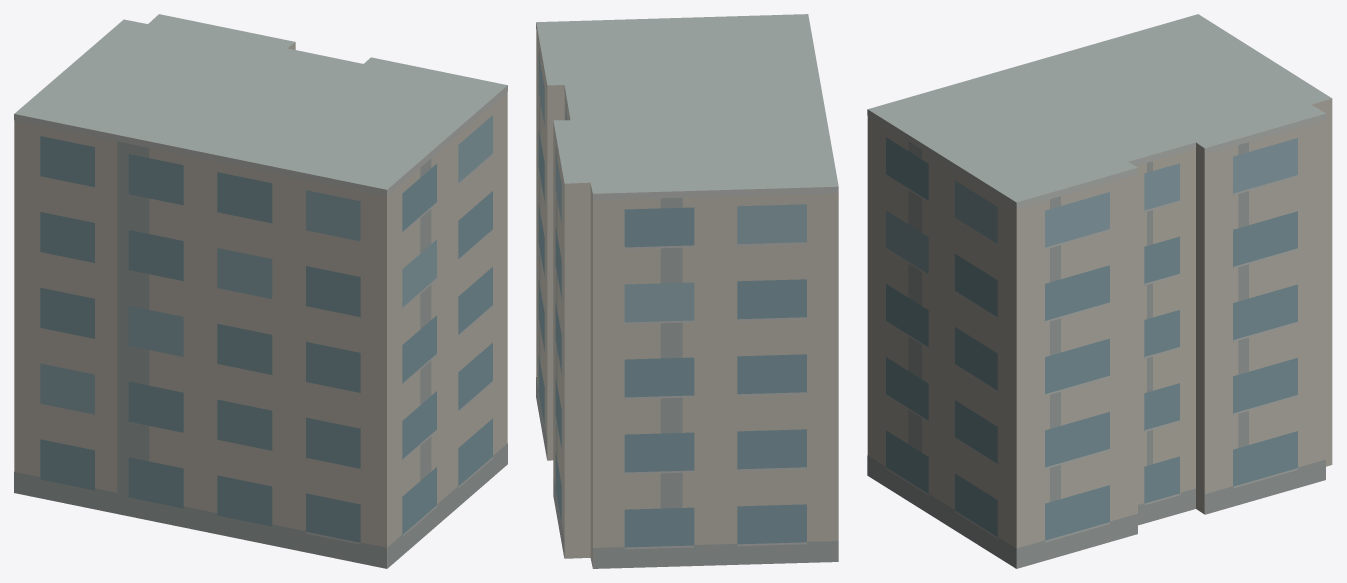
File: survey-upis-32891773.glb
The picture shows the model from 3 angles, left to right: view 1: azimuth 30°, elevation 25°; view 2: azimuth 150°, elevation 25°; view 3: azimuth 270°, elevation 25°; orthographic projection. The views are drawn at different scales.
Visible parts, largest first — view 1: survey-upis-32891773.tmp; view 2: survey-upis-32891773.tmp; view 3: survey-upis-32891773.tmp.
Boxes of the visible parts, <box> form: survey-upis-32891773.tmp: <box>14,14,507,568</box>; survey-upis-32891773.tmp: <box>536,14,838,568</box>; survey-upis-32891773.tmp: <box>867,14,1332,568</box>.
Bounding box in the file's own units: 15.57 × 14.1 × 16.22.
